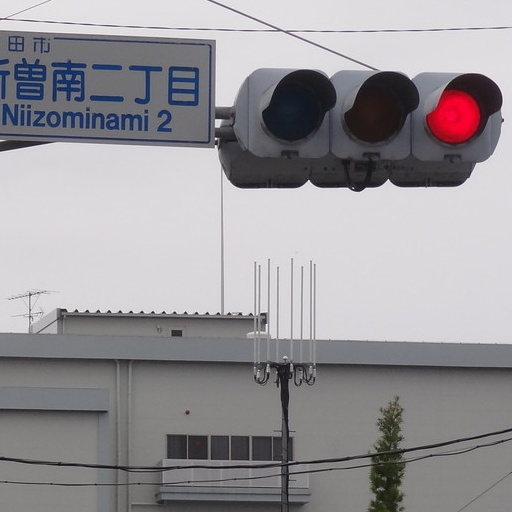Traffic_Signal_Red: (251, 62, 509, 158)
